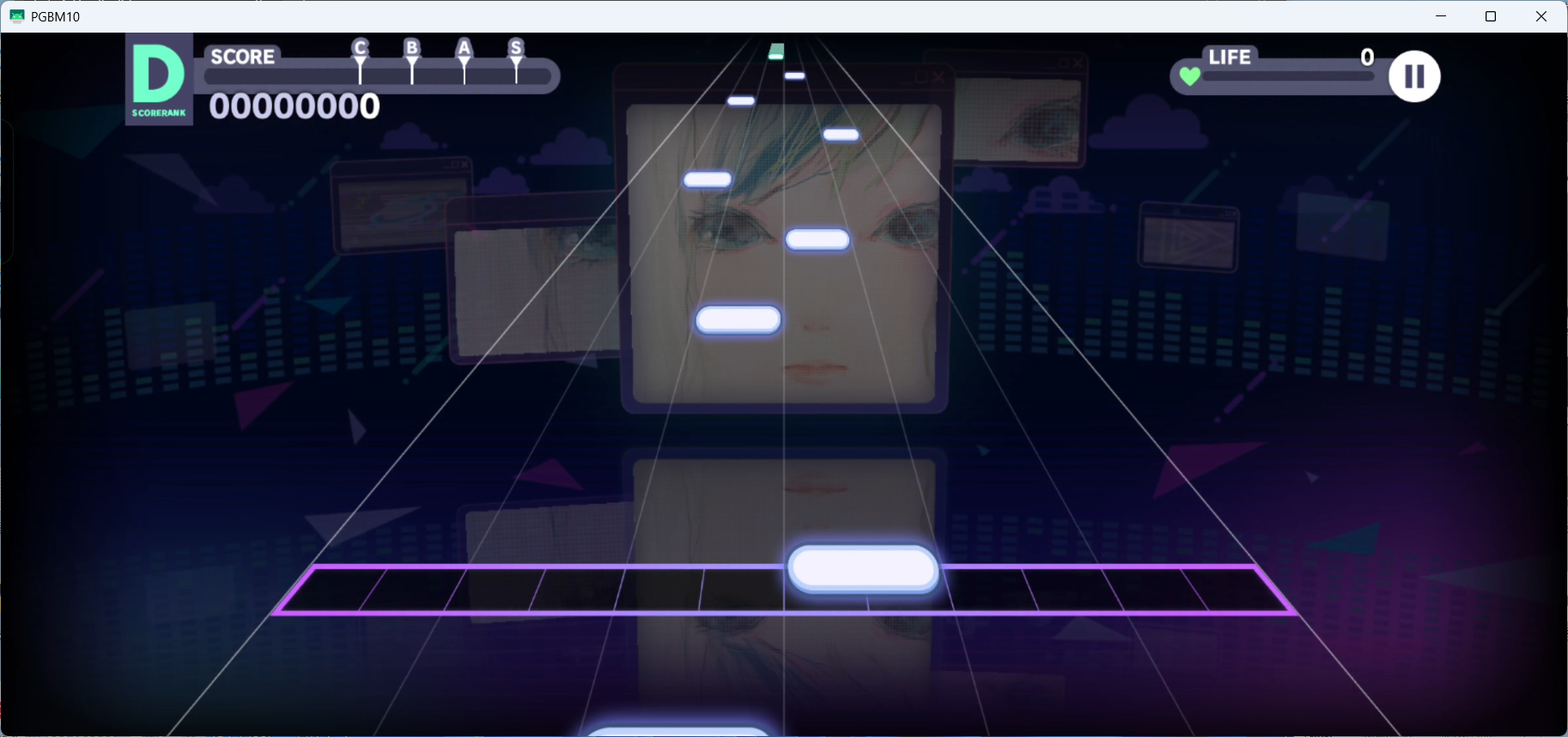hold: (768, 43, 783, 53)
tap: (787, 545, 939, 593), (694, 306, 780, 335), (580, 727, 769, 737), (785, 228, 849, 251), (684, 172, 731, 187), (823, 129, 859, 142), (726, 96, 754, 105), (783, 72, 804, 79), (768, 53, 783, 59)
